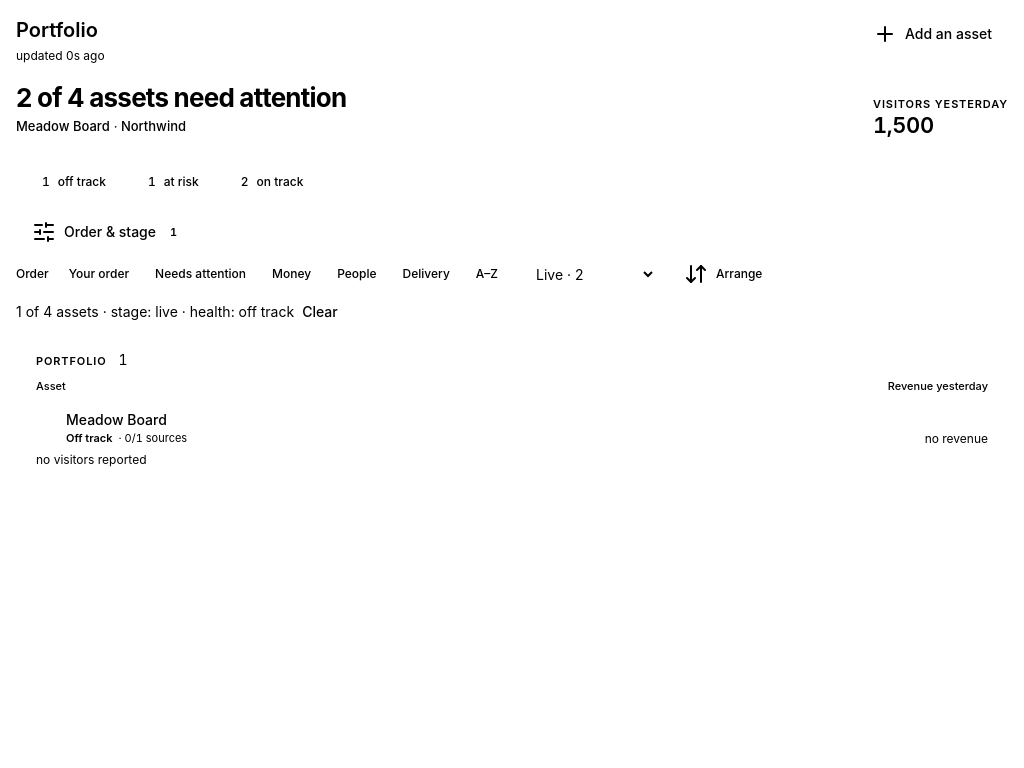
Test: /assets — the stage › clears both filters at once and keeps the order
The width and height of the screenshot is (1024, 768).
Click the link "Clear". click: click(320, 312)
box: x1=302 y1=302 x2=338 y2=322
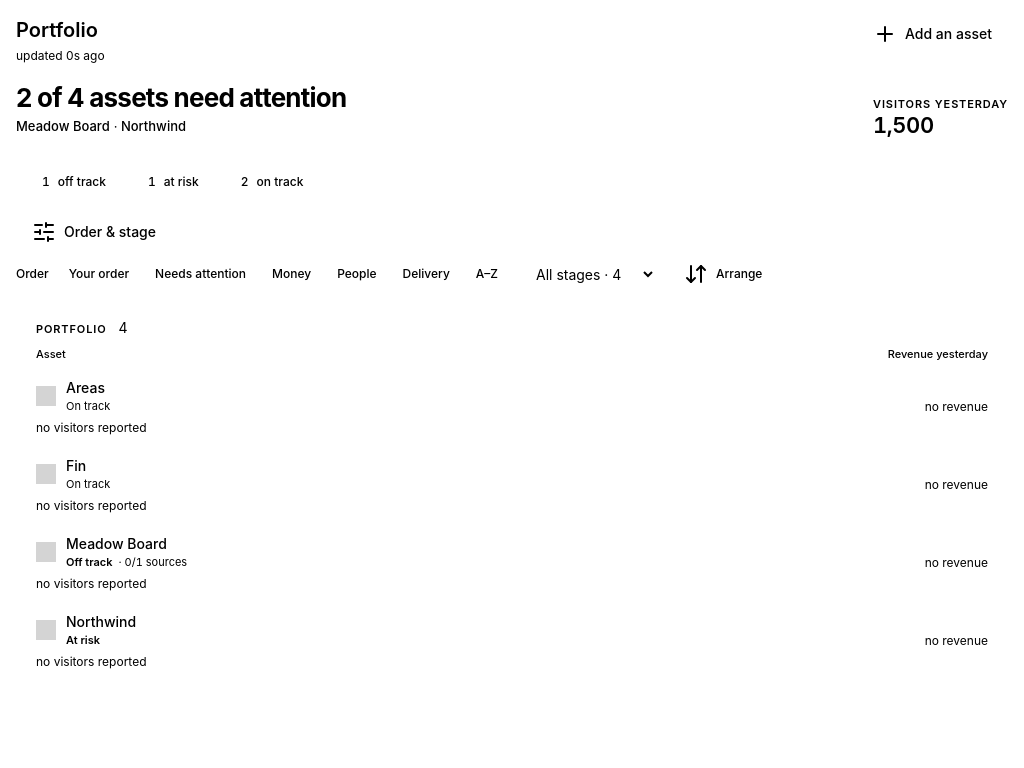
Result: the dropdown named "Stage" shows "All stages · 4" at x1=524 y1=261 x2=656 y2=288
